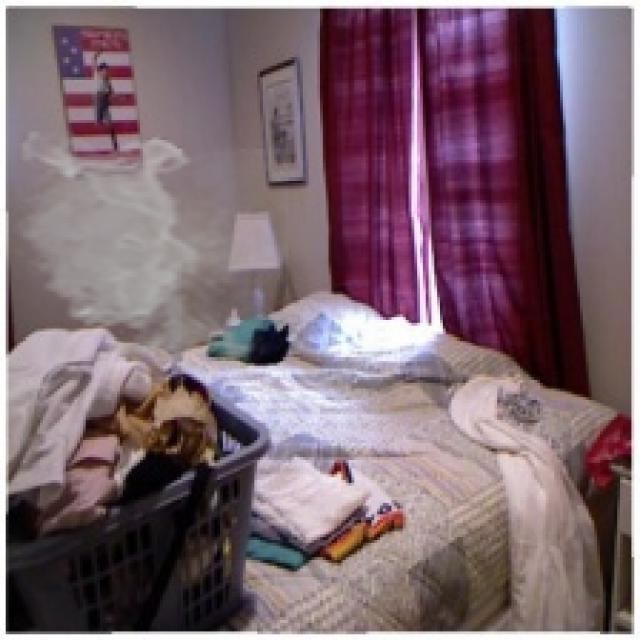Smoke: (12, 132, 288, 372)
